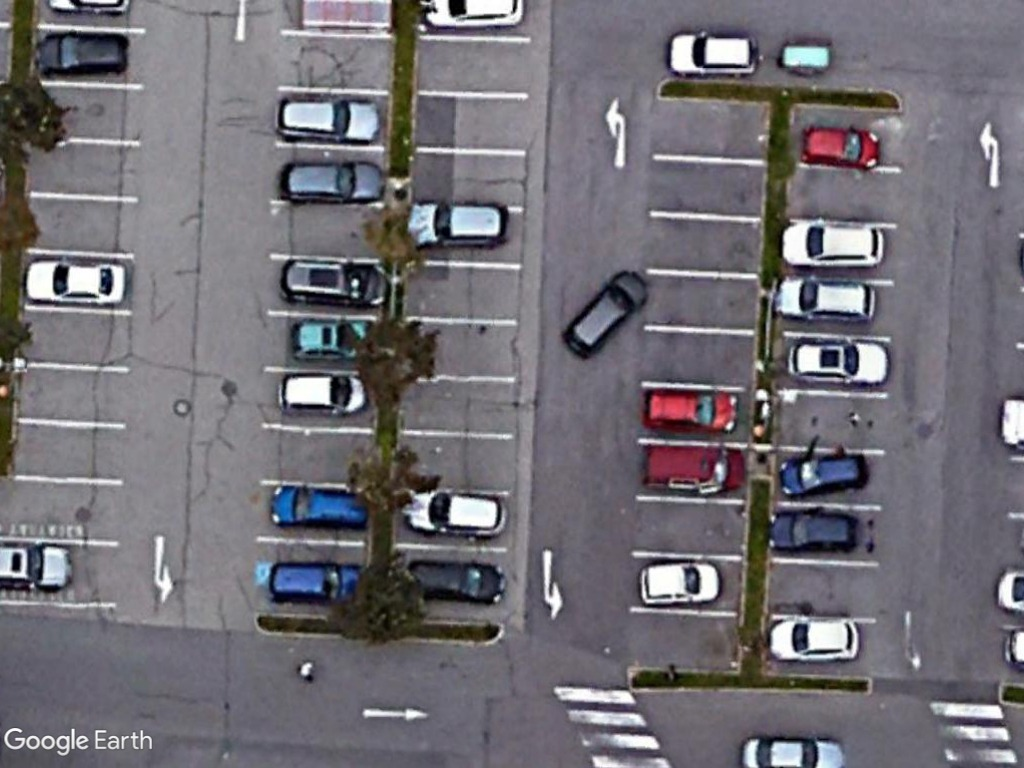car: (556, 267, 653, 362), (272, 255, 394, 313), (778, 333, 899, 389), (770, 269, 884, 328), (636, 379, 747, 438), (272, 154, 391, 209), (397, 485, 513, 541), (272, 87, 384, 144), (263, 480, 380, 534), (28, 25, 134, 84), (400, 196, 514, 250), (17, 255, 130, 309), (664, 25, 764, 85), (777, 217, 892, 269), (761, 613, 867, 667), (632, 551, 725, 611), (773, 445, 873, 500), (760, 504, 861, 557), (269, 363, 368, 416), (798, 118, 884, 174), (734, 732, 851, 768)
